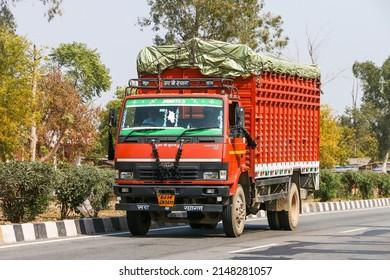truck: (116, 64, 320, 232)
